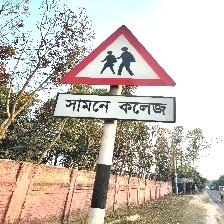College-in-front: (43, 22, 183, 136)
